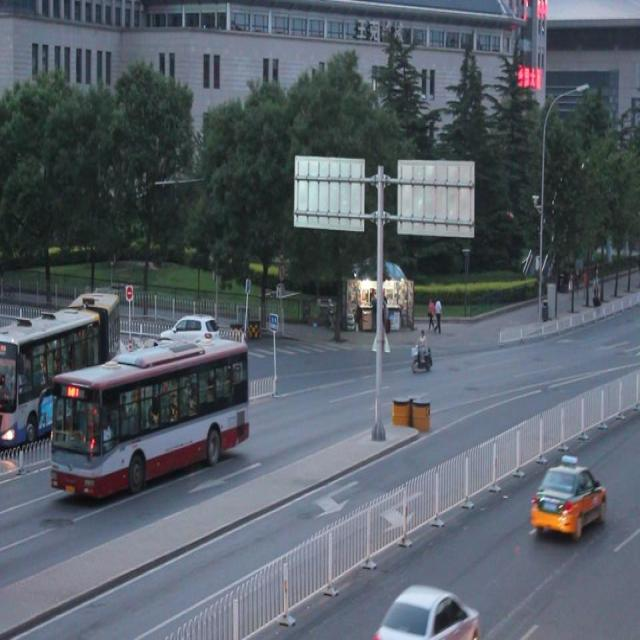car: (373, 573, 479, 640), (530, 454, 603, 536), (162, 309, 223, 359), (121, 332, 167, 387)
van: (54, 339, 247, 505), (1, 290, 120, 452)
